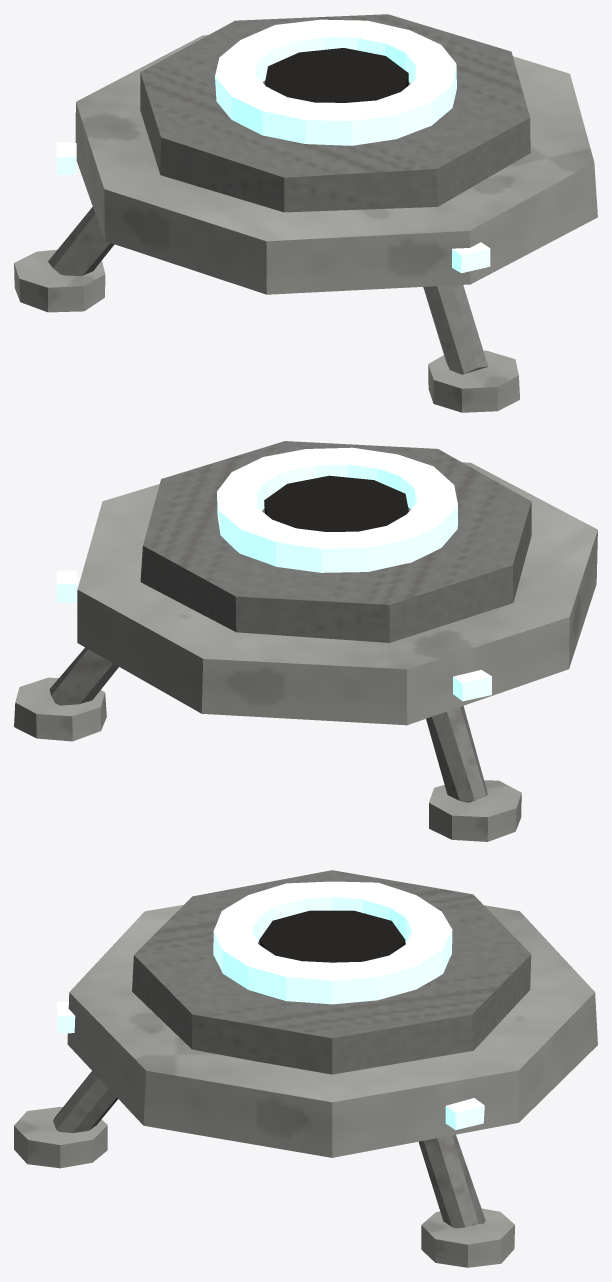
File: beacon_part_3.glb
3 renders of one model, top to bottom at view 1: azimuth 30°, elevation 25°; view 2: azimuth 150°, elevation 25°; view 3: azimuth 270°, elevation 25°, orthographic.
Parts seen in each view (by area): view 1: BeaconPart3; view 2: BeaconPart3; view 3: BeaconPart3.
Part boxes in pixels (x1=…): BeaconPart3: x1=14, y1=14, x2=597, y2=412; BeaconPart3: x1=14, y1=441, x2=597, y2=841; BeaconPart3: x1=14, y1=870, x2=597, y2=1267.
Size of the model in its own units: 0.4761 by 0.2061 by 0.4934.
Materials: 4 (2 with a texture image).
